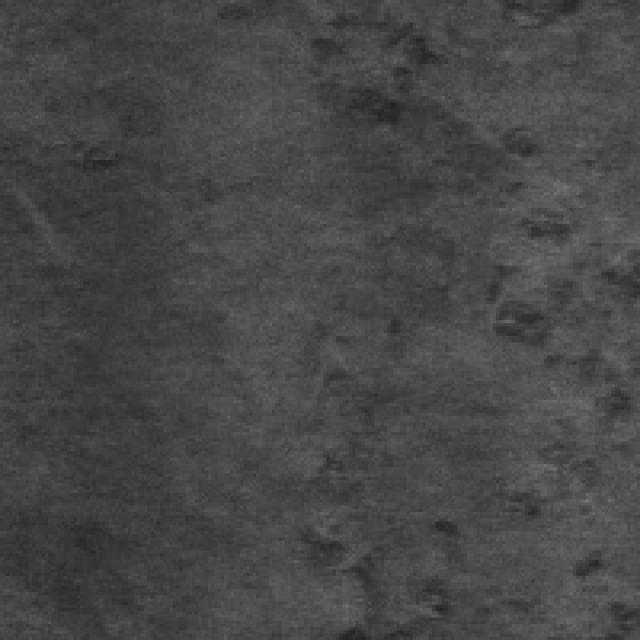rolled-in_scale: (483, 121, 634, 636), (288, 314, 448, 630), (288, 3, 432, 122)
